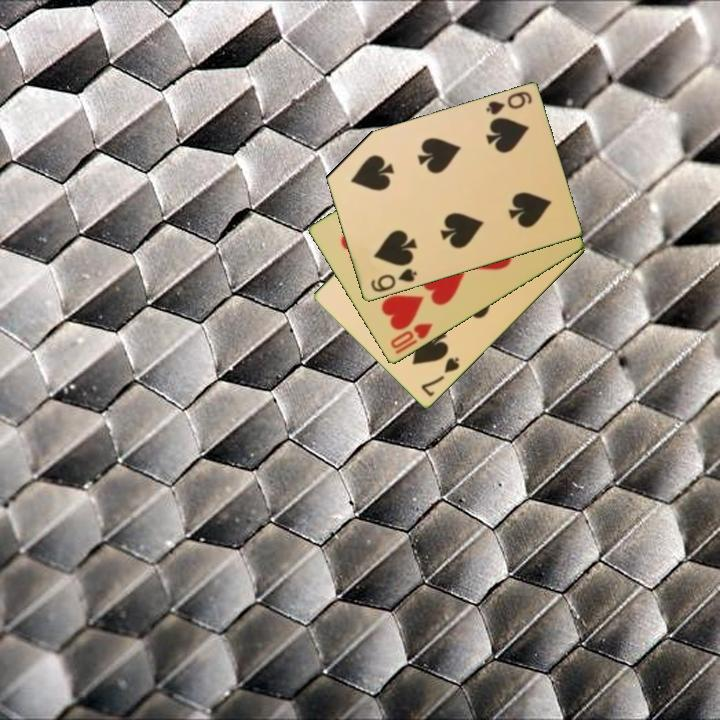10h: (386, 320, 436, 352)
6s: (367, 265, 420, 295), (482, 88, 535, 118)
7s: (418, 354, 463, 400)
